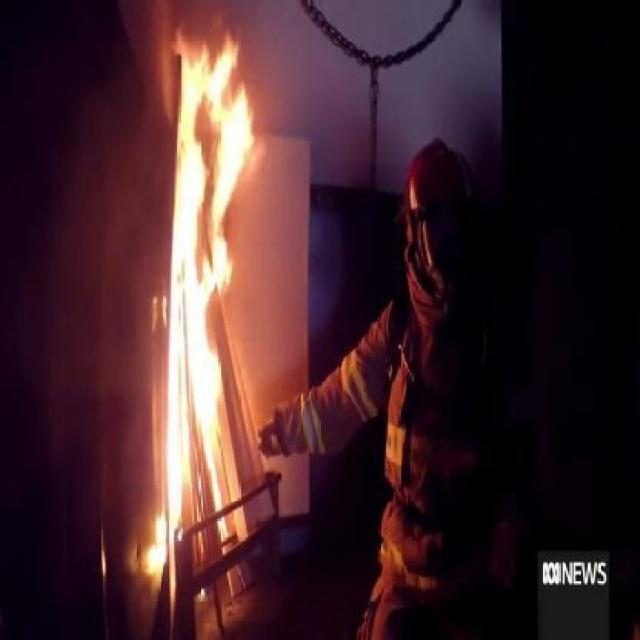smoke: (130, 23, 265, 594)
